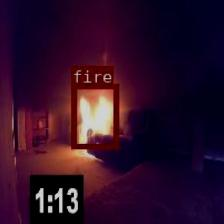fire: (71, 84, 117, 148)
